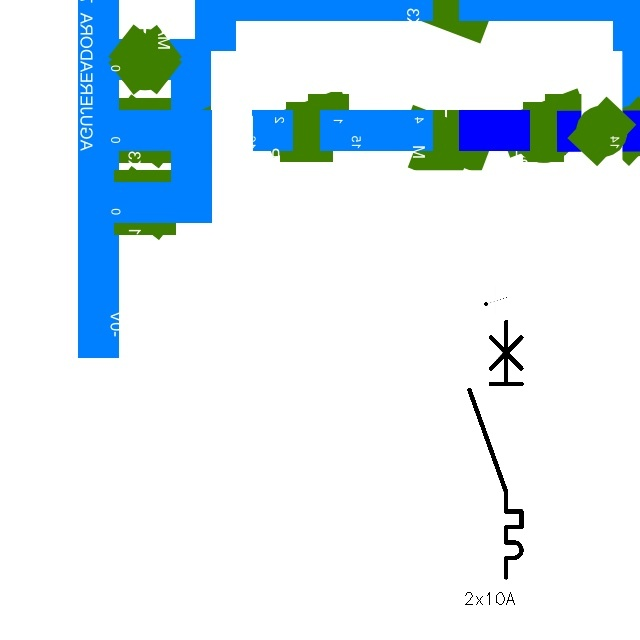interruptor_termomagnetico: (463, 315, 528, 583)
